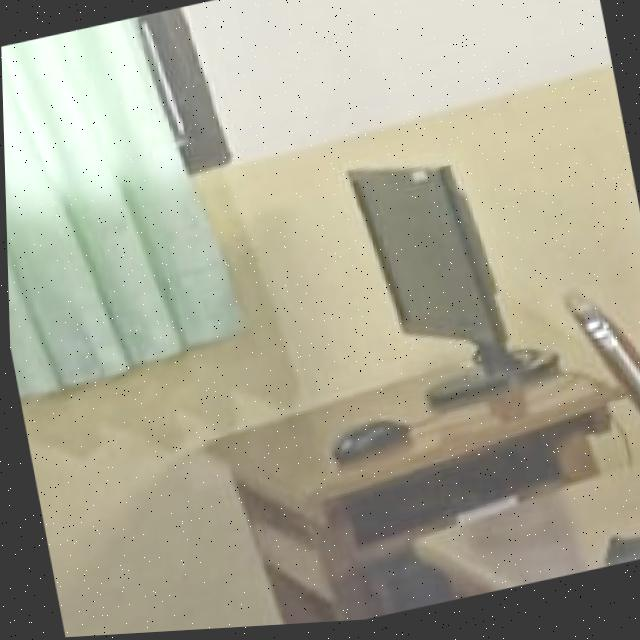offscreen: (348, 173, 500, 350)
